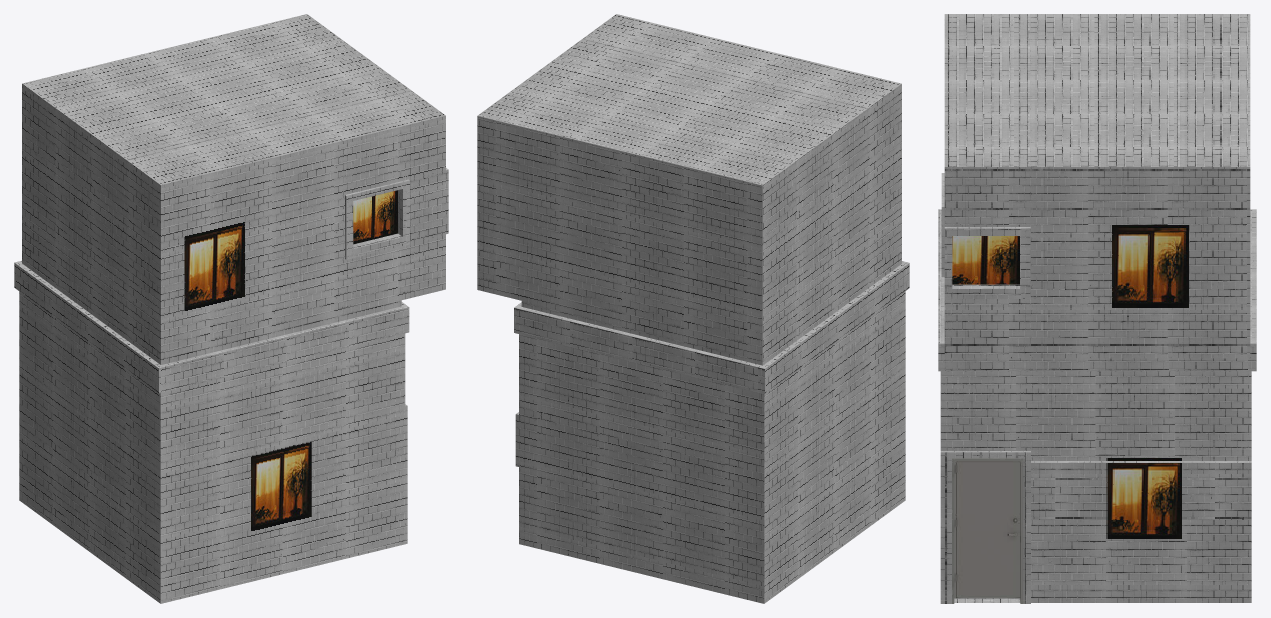
Rendered from house_00.glb.
3 renders of one model, left to right at view 1: azimuth 30°, elevation 25°; view 2: azimuth 150°, elevation 25°; view 3: azimuth 270°, elevation 25°, orthographic. The views are drawn at different scales.
Visible parts, largest first — view 1: building_01; view 2: building_01; view 3: building_01.
Part boxes in pixels (x1,y1,x2,y2): building_01: (14,14,448,603); building_01: (477,14,909,603); building_01: (938,14,1256,603).
Bounding box in the file's own units: 4.19 × 5.7 × 3.58.
1 material, 1 textured.
